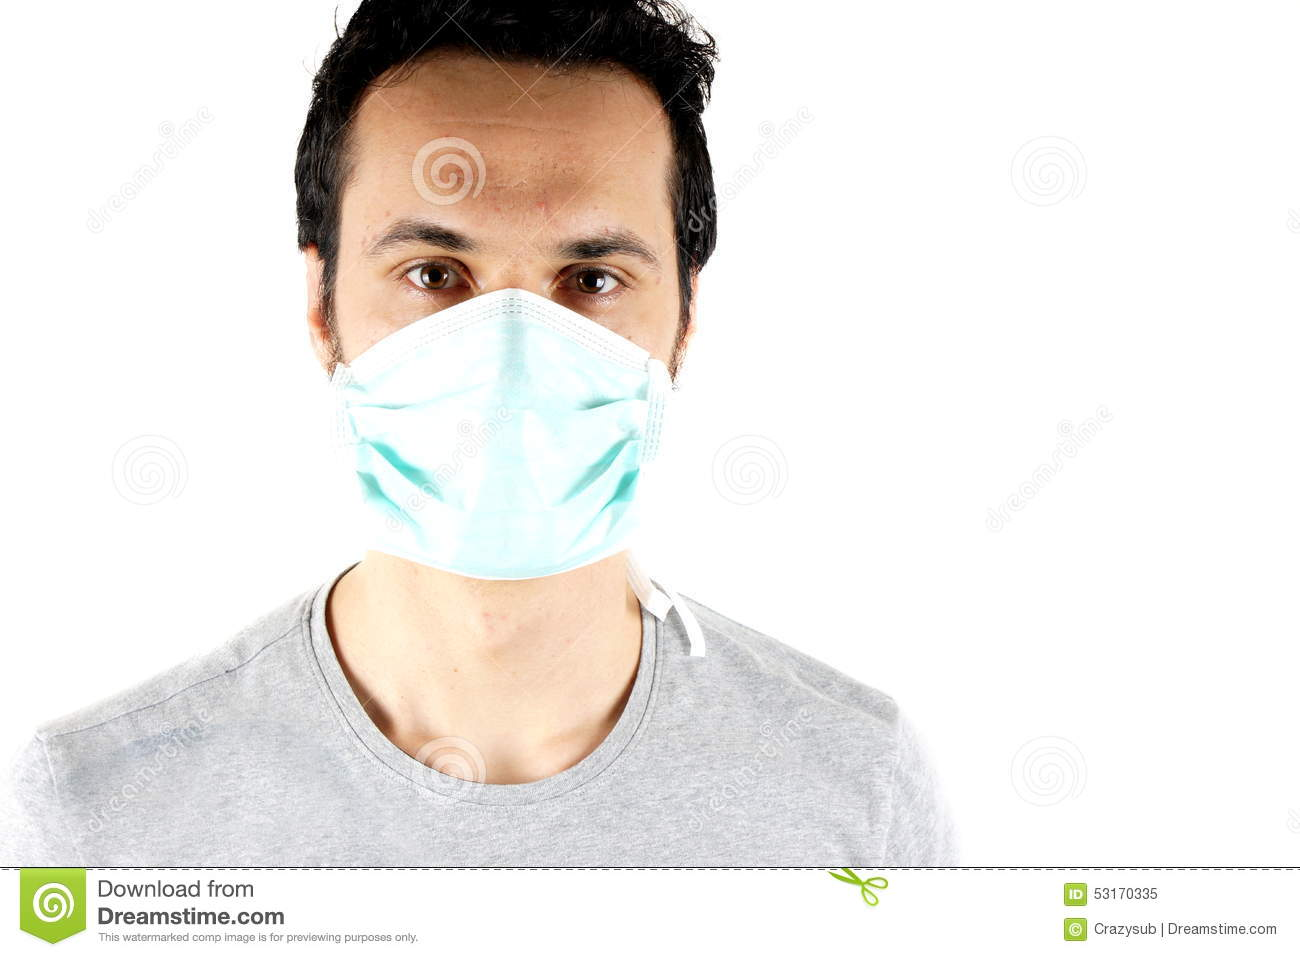mask: (342, 288, 654, 594)
